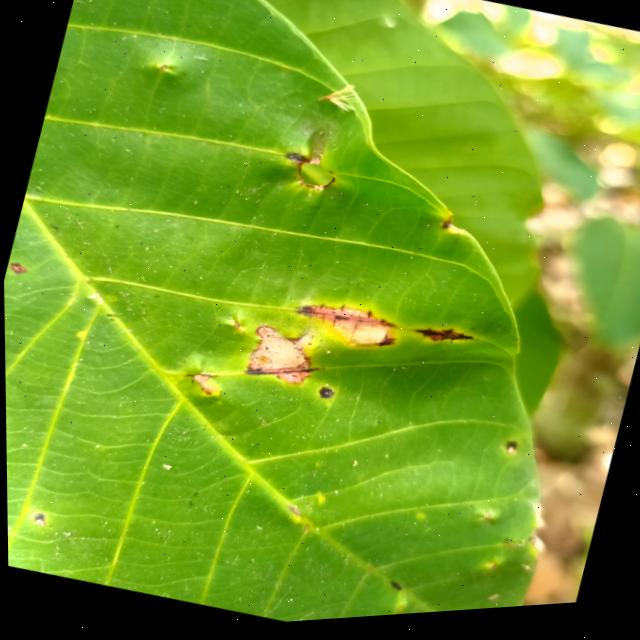Colletotrichum: (316, 389, 333, 405)
Corynespora: (410, 323, 475, 359)
Leaf-Blight: (301, 302, 392, 361), (245, 325, 318, 392)
